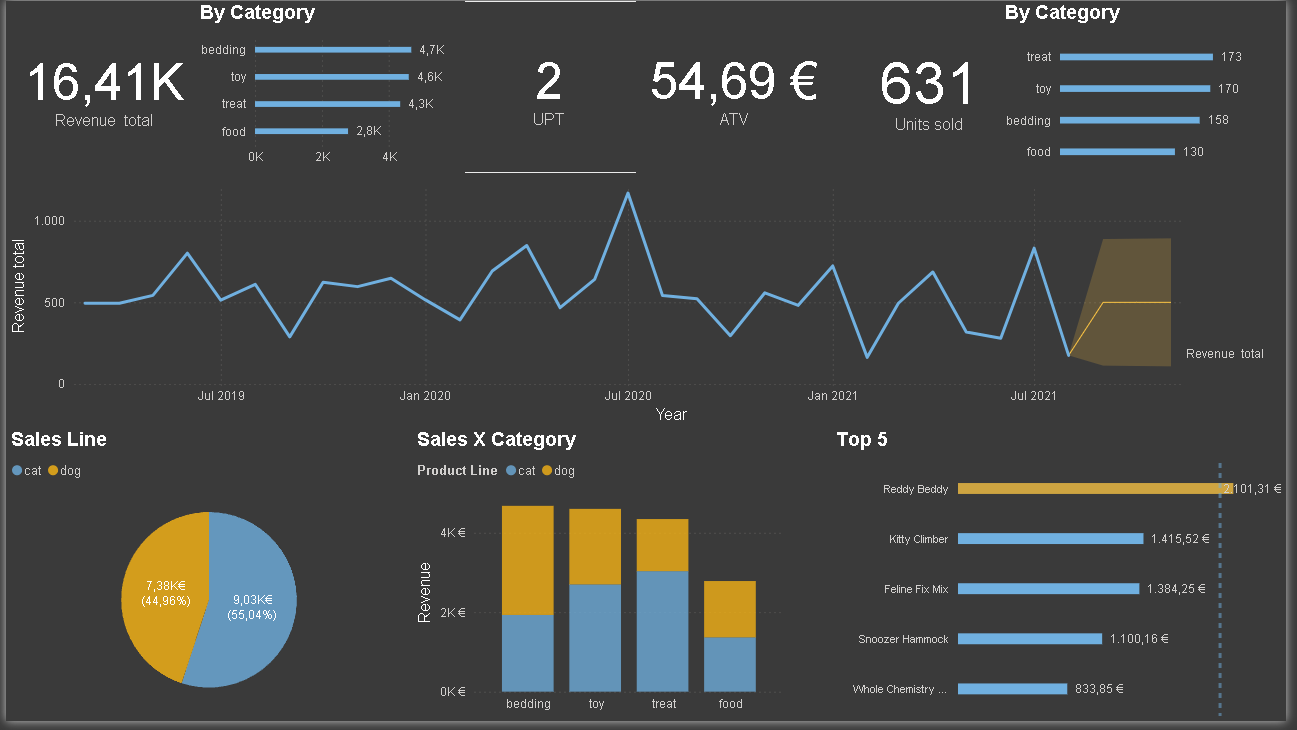

This screenshot's page, from the dashboard's own definition file:
{"tool":"powerbi","page":{"name":"Page 1","canvas":[1280,720],"ordinal":0},"visuals":[{"type":"card","fields":{"Values":["transactions-pet_store-small.Revenue Total"]},"box":[0,0,195,172.9],"z":0},{"type":"card","fields":{"Values":["transactions-pet_store-small.UPT"]},"box":[445,0,195,172.4],"z":1000},{"type":"card","fields":{"Values":["transactions-pet_store-small.ATV"]},"box":[630.3,0,195,172.4],"z":2000},{"type":"lineChart","fields":{"Y":["transactions-pet_store-small.Revenue Total"],"Category":["transactions-pet_store-small.Date.Variation.Date Hierarchy.Year","transactions-pet_store-small.Date.Variation.Date Hierarchy.Quarter","transactions-pet_store-small.Date.Variation.Date Hierarchy.Month"]},"box":[0,172.9,1280,254.1],"z":3000},{"type":"columnChart","title":"Sales X Category","fields":{"Y":["Sum(transactions-pet_store-small.Revenue)"],"Category":["transactions-pet_store-small.Product_Category"],"Series":["transactions-pet_store-small.Product_Line"]},"box":[406.2,426.7,378.2,293.1],"z":4000},{"type":"card","fields":{"Values":["transactions-pet_store-small.Units sold"]},"box":[825.3,0,196.1,172.4],"z":5000},{"type":"barChart","title":"By Category","fields":{"Y":["transactions-pet_store-small.Units sold"],"Category":["transactions-pet_store-small.Product_Category"]},"box":[994.4,0,285.6,172.9],"z":6000},{"type":"barChart","title":"By Category","fields":{"Y":["transactions-pet_store-small.Revenue Total"],"Category":["transactions-pet_store-small.Product_Category"]},"box":[189.1,0,270.3,172.9],"z":7000},{"type":"pieChart","title":"Sales Line","fields":{"Y":["Sum(transactions-pet_store-small.Revenue)"],"Category":["transactions-pet_store-small.Product_Line"]},"box":[0,426.7,406.2,293.1],"z":8000},{"type":"barChart","title":"Top 5","fields":{"Y":["Sum(transactions-pet_store-small.Revenue)"],"Category":["transactions-pet_store-small.Product_Name"]},"box":[825.3,426.7,454.7,293.1],"z":9000}]}

Visuals, with their boxes in screenshot pixels (x1, y1, x2, y2), scaled from the page's 1280x720 canvas onto the 1297x730 screenshot:
card - transactions-pet_store-small.Revenue Total: l=0, t=0, r=198, b=175
card - transactions-pet_store-small.UPT: l=451, t=0, r=648, b=175
card - transactions-pet_store-small.ATV: l=639, t=0, r=836, b=175
lineChart - transactions-pet_store-small.Revenue Total x transactions-pet_store-small.Date.Variation.Date Hierarchy.Year: l=0, t=175, r=1296, b=433
"Sales X Category" columnChart: l=412, t=433, r=795, b=729
card - transactions-pet_store-small.Units sold: l=836, t=0, r=1035, b=175
"By Category" barChart: l=1008, t=0, r=1296, b=175
"By Category" barChart: l=192, t=0, r=466, b=175
"Sales Line" pieChart: l=0, t=433, r=412, b=729
"Top 5" barChart: l=836, t=433, r=1296, b=729
